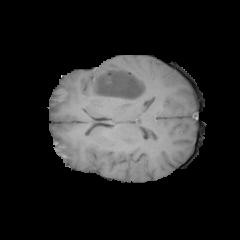glioma: (84, 68, 148, 169)
